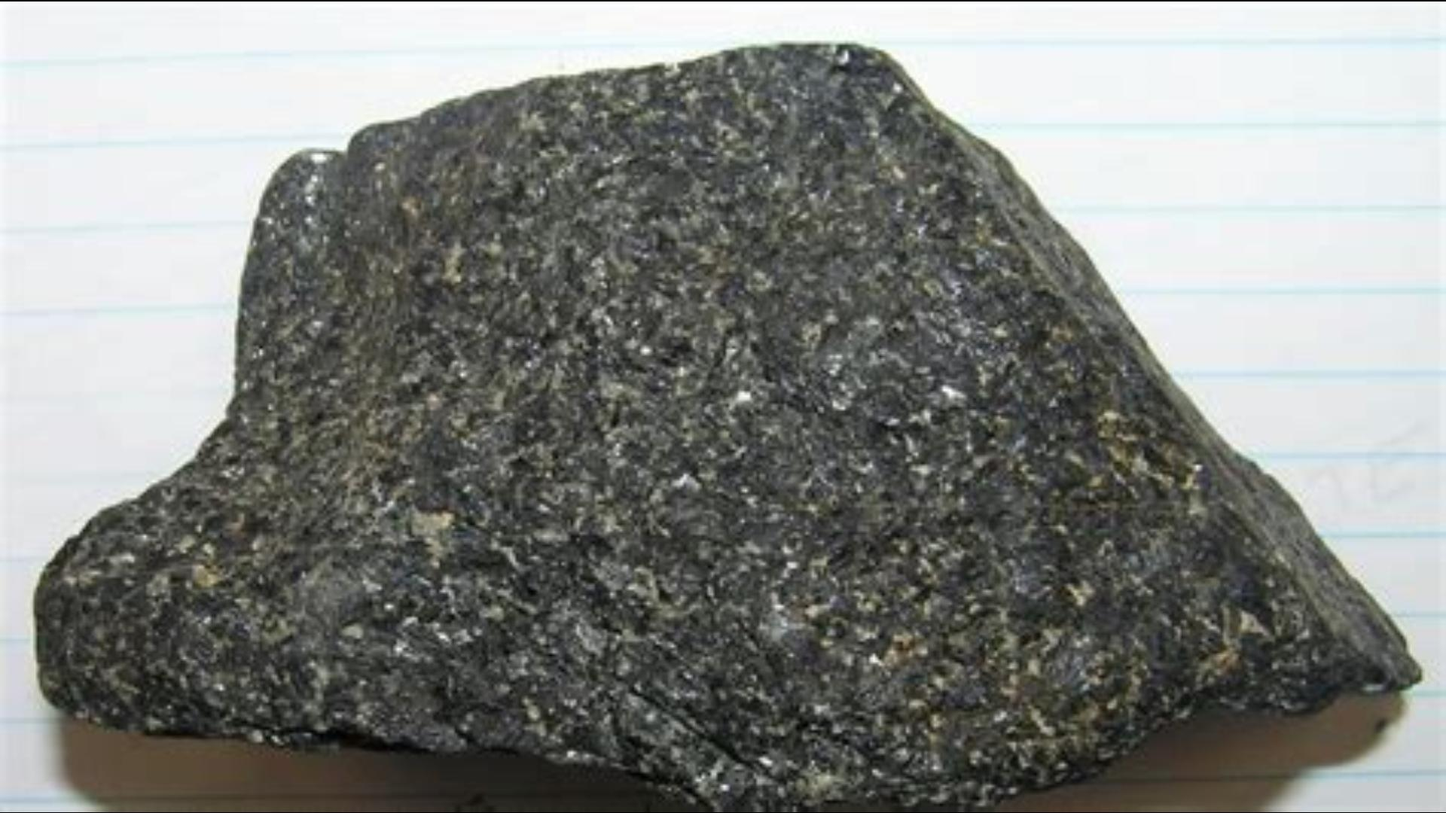rock: (37, 46, 1415, 803)
